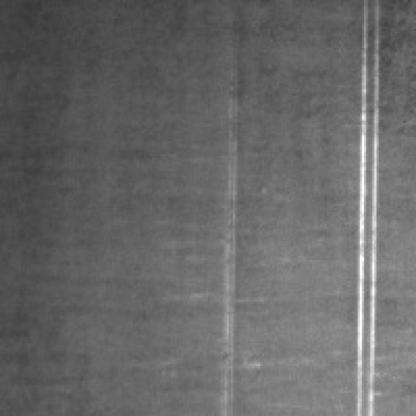scratches: (349, 0, 380, 410), (214, 81, 237, 410)
